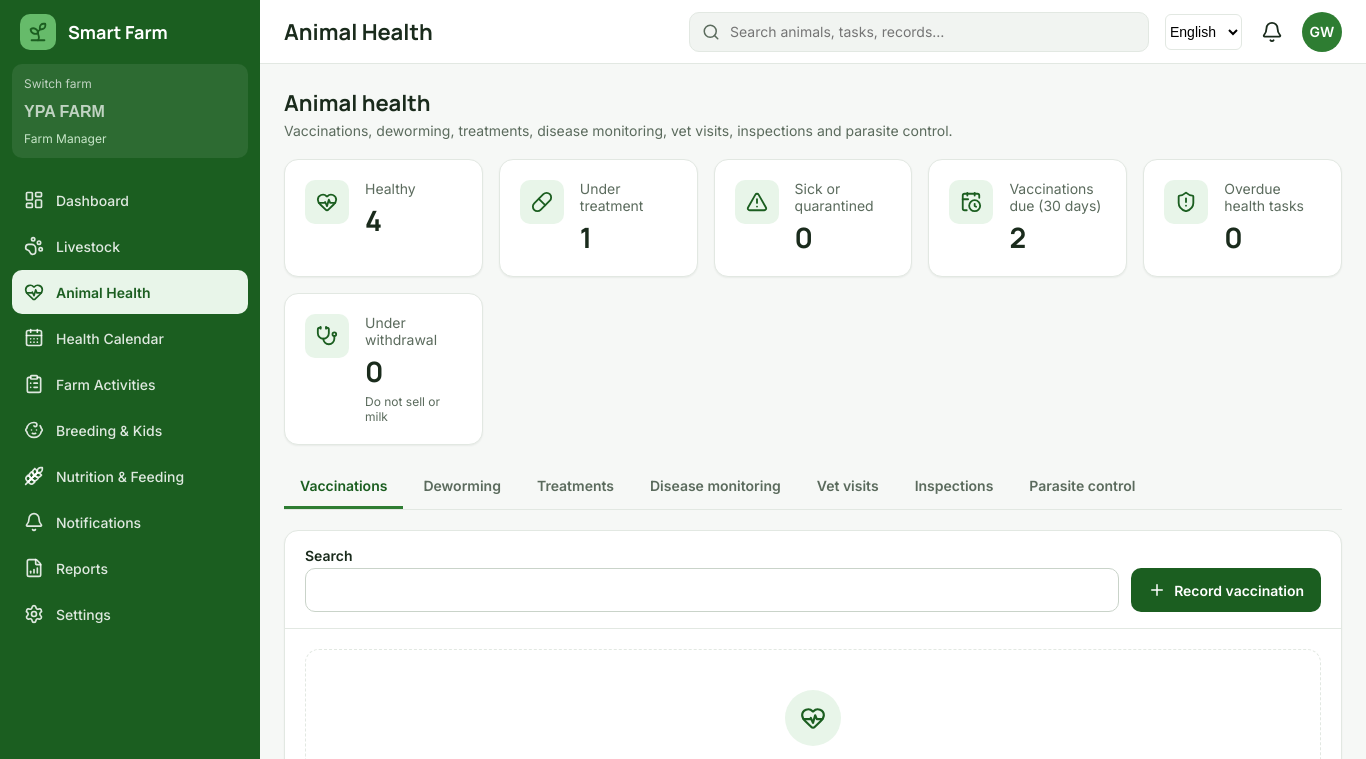
Scenario: animal health › records a vaccination from the catalogue and fills the next due date
Expected: the text "Vaccinations due (30 days)" is shown, x1=1009 y1=180 x2=1106 y2=214
Click the button "Record vaccination".
click(1226, 590)  # box x1=1131 y1=568 x2=1321 y2=612
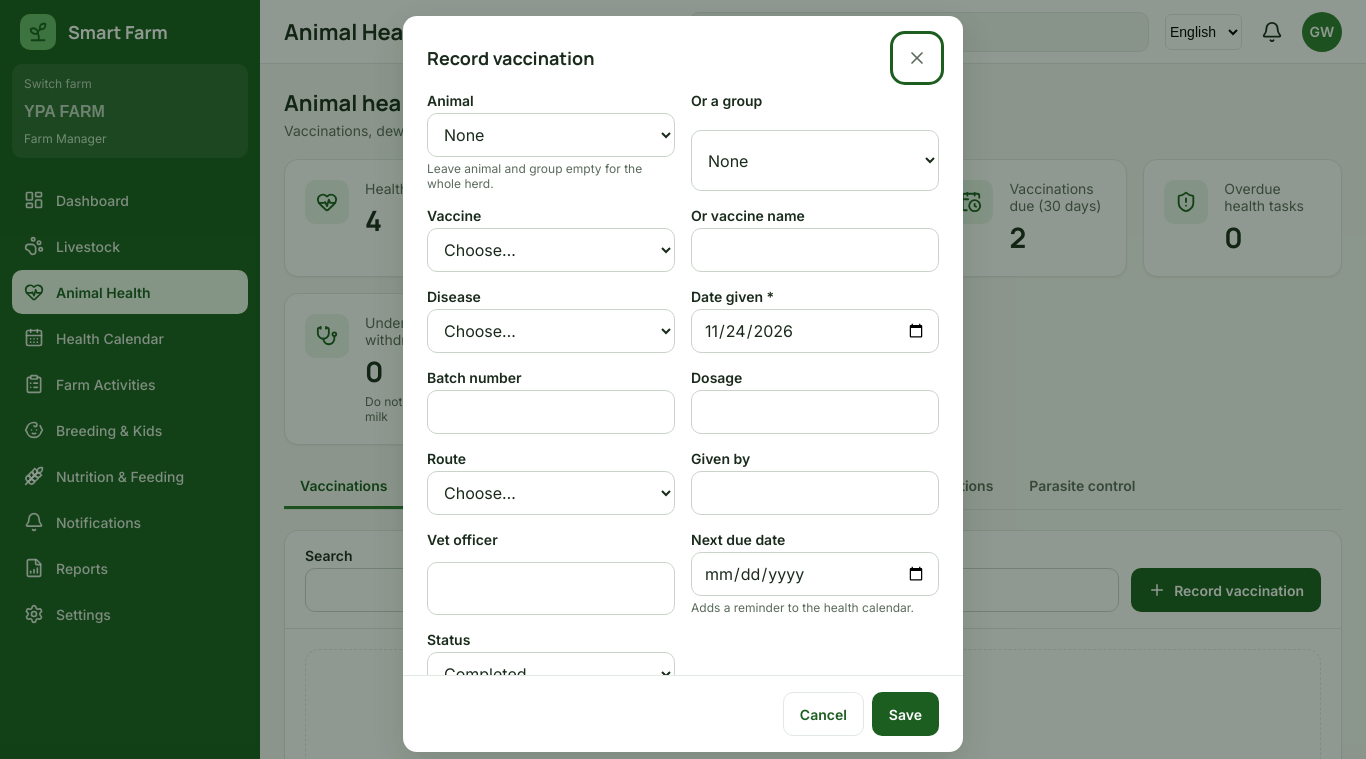
Select "YPA-001 Simba" in the dropdown labelled "Animal" at (551, 135), box x1=427 y1=113 x2=675 y2=157
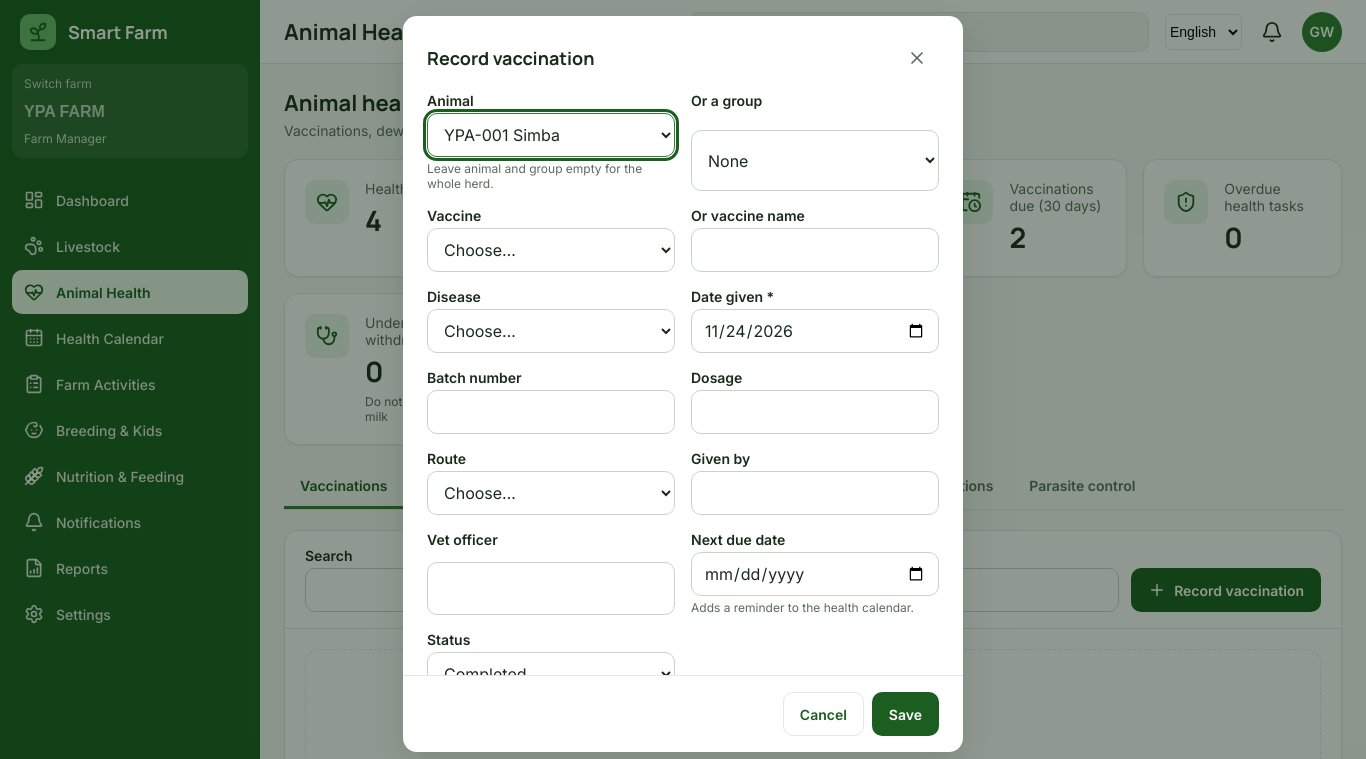
Select "PPR vaccine" in the dropdown labelled "Vaccine" at (551, 250), box x1=427 y1=228 x2=675 y2=272
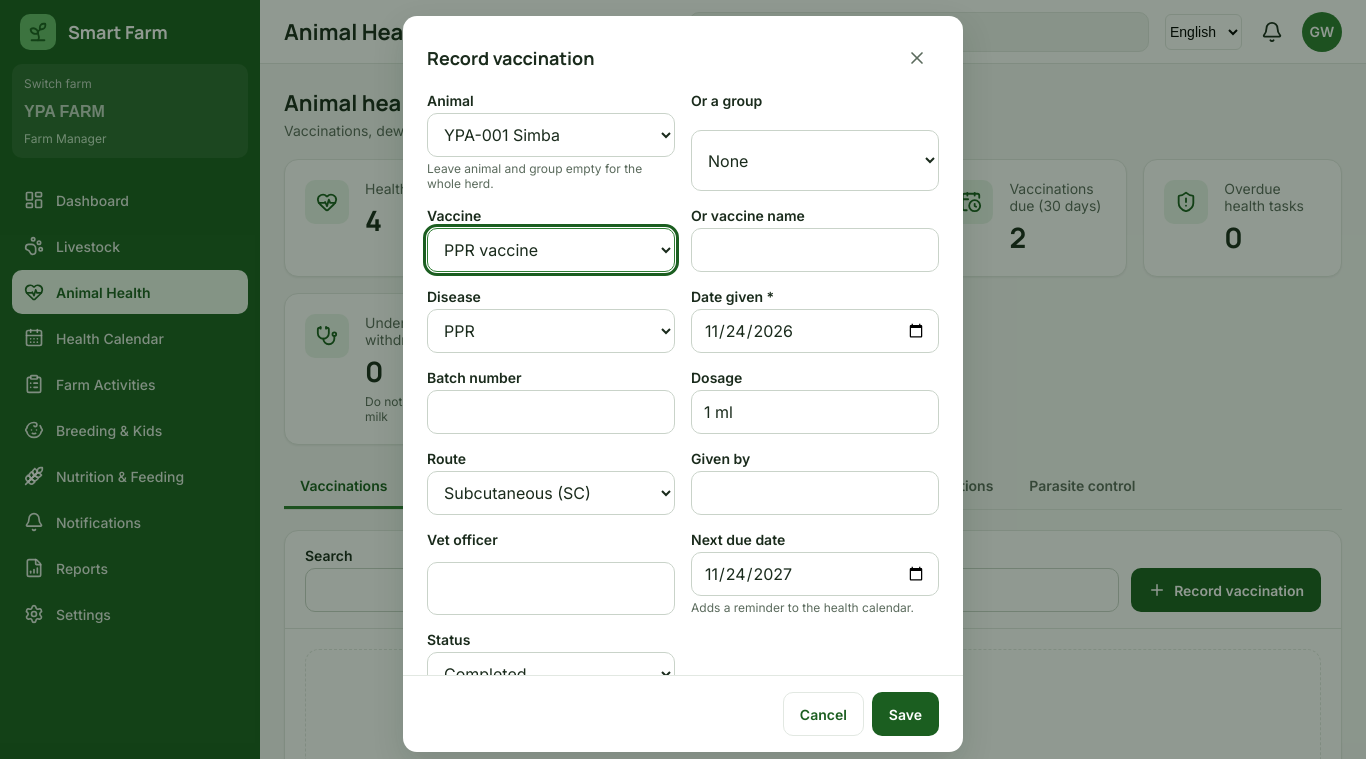
Result: the dropdown labelled "Disease" shows "PPR" at x1=427 y1=309 x2=675 y2=353
Result: the date field labelled "Next due date" is not empty at x1=691 y1=552 x2=939 y2=596
Click the button "Save".
click(905, 714)  # box x1=872 y1=692 x2=939 y2=736
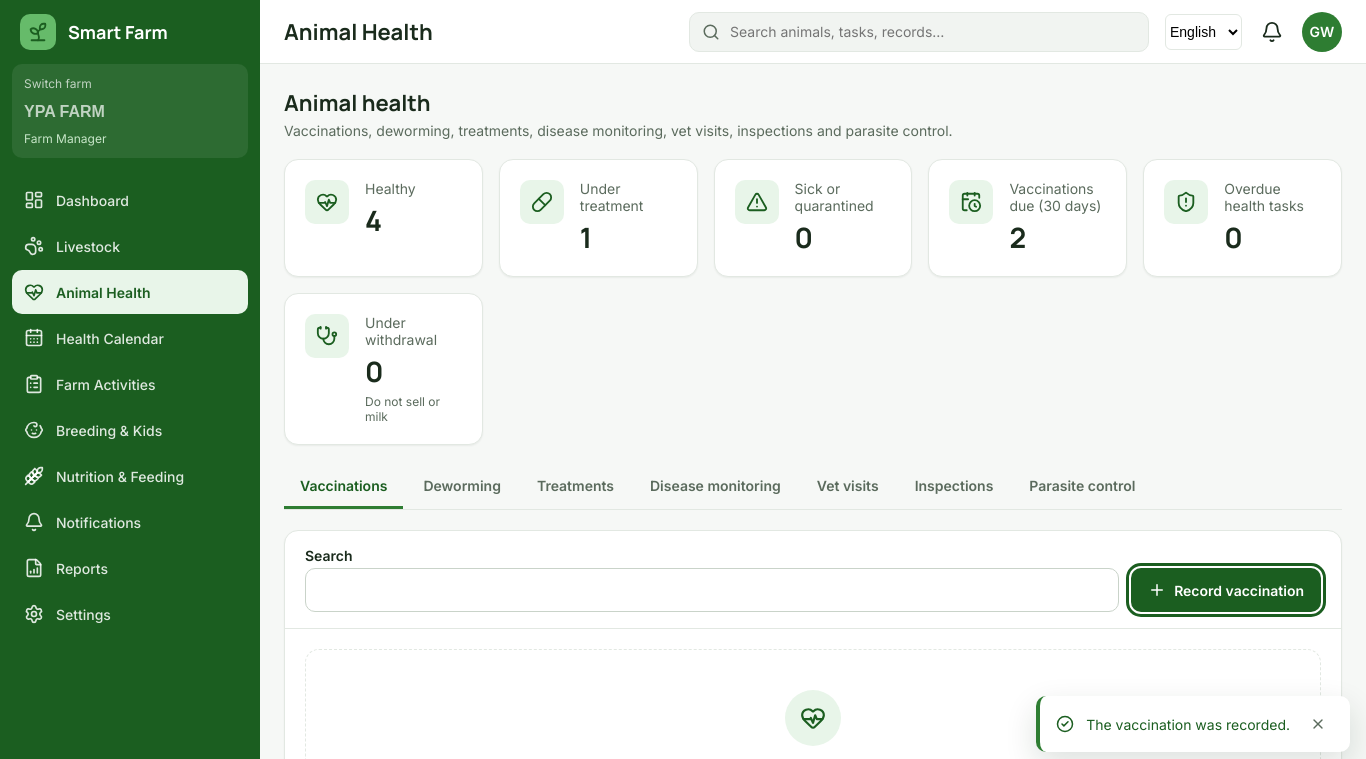
Result: the text "The vaccination was recorded." is shown at x1=1086 y1=716 x2=1290 y2=732
